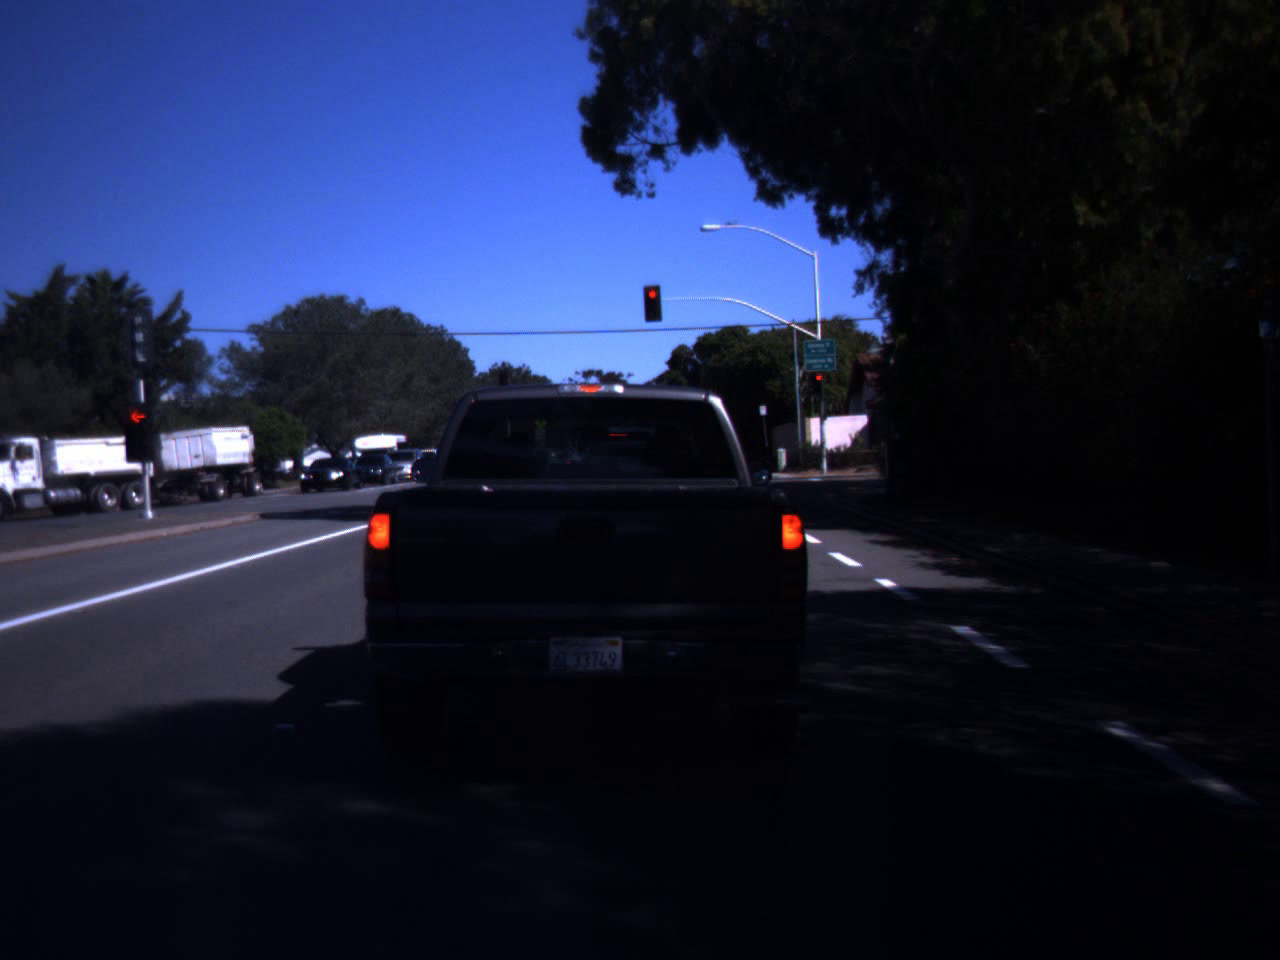stop: (121, 407, 154, 452), (645, 289, 660, 311), (812, 374, 824, 392)
